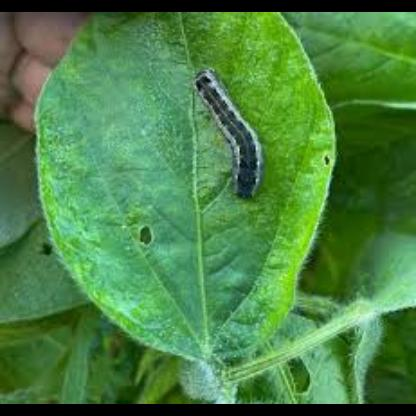agujero: (140, 219, 158, 247)
oruga: (184, 65, 264, 203)
